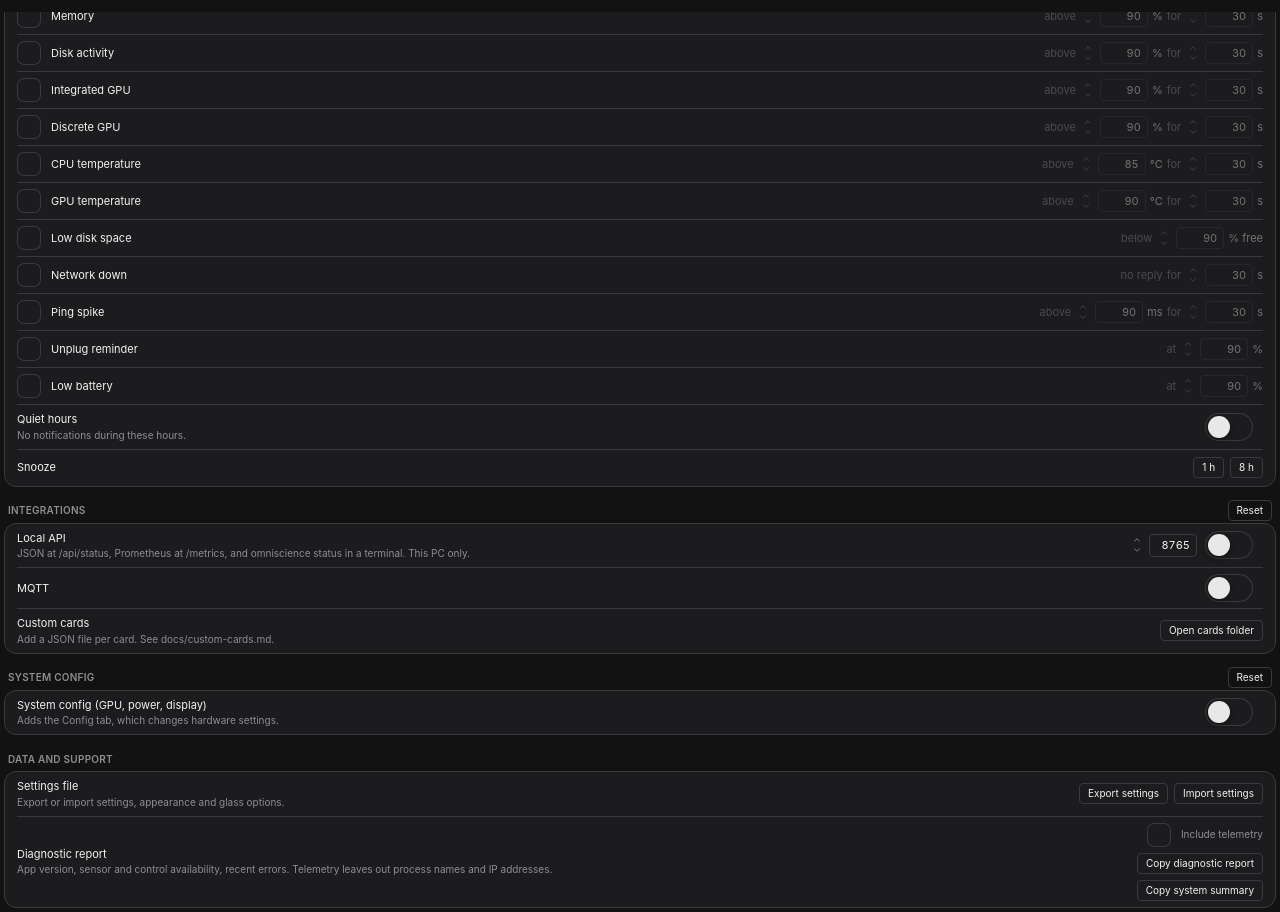
settings tools › exports the settings, appearance and glass options
(page scrolled)
Step 1. Click the button "Export settings" → [1124, 794], box [1079, 783, 1168, 804]
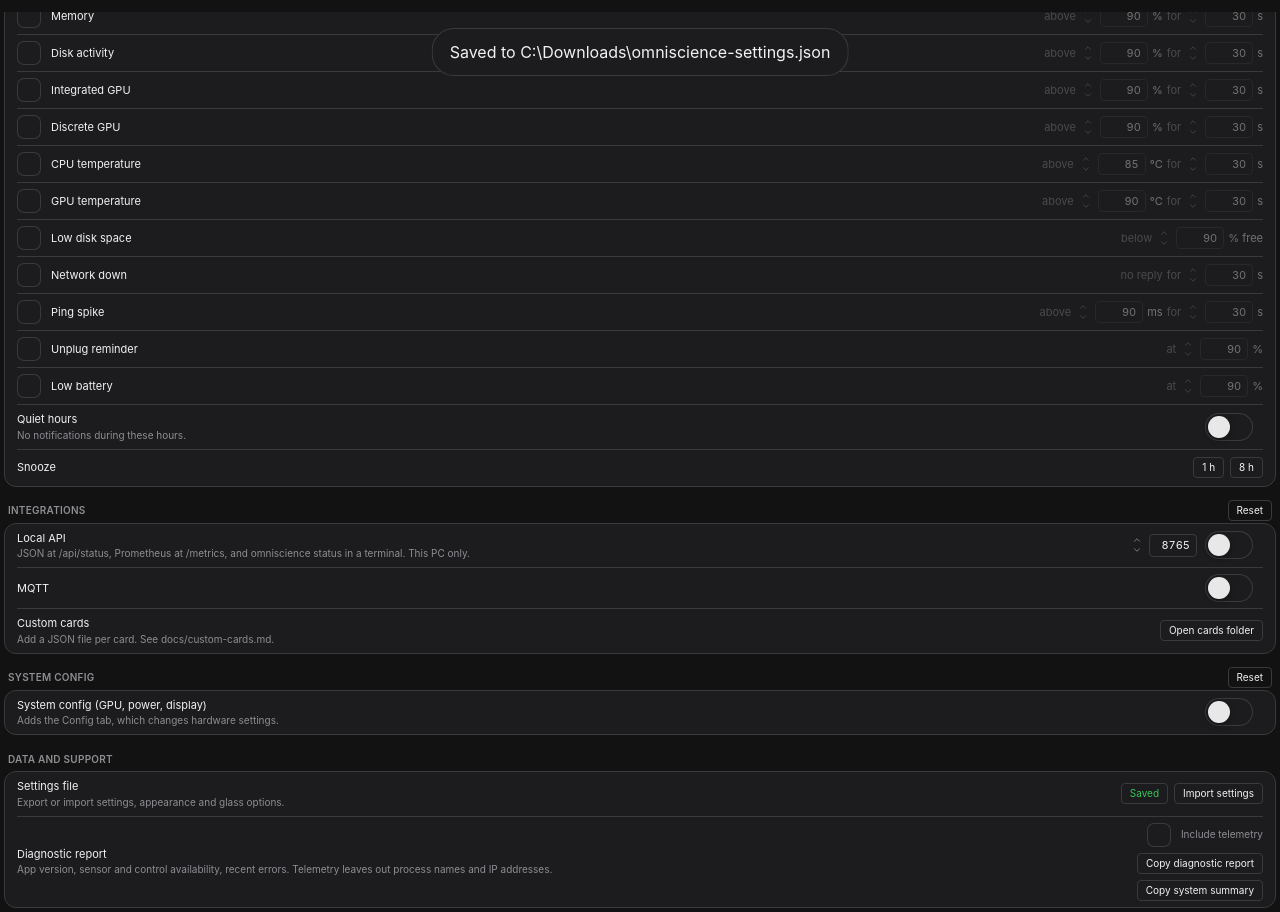
Now the text "Saved to C:\\Downloads\\omniscience-settings.json" is shown, box [450, 40, 830, 64]
